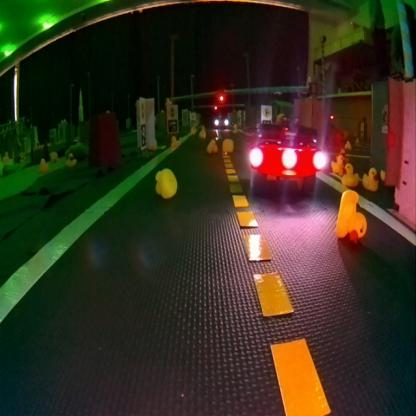duckie: (335, 184, 370, 251), (150, 162, 180, 203)
duckiebot: (248, 119, 333, 201)
